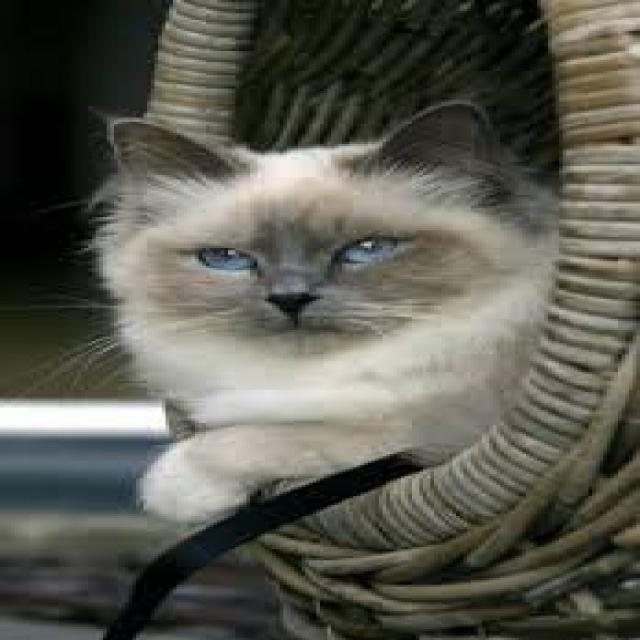Cat: (85, 92, 570, 528)
